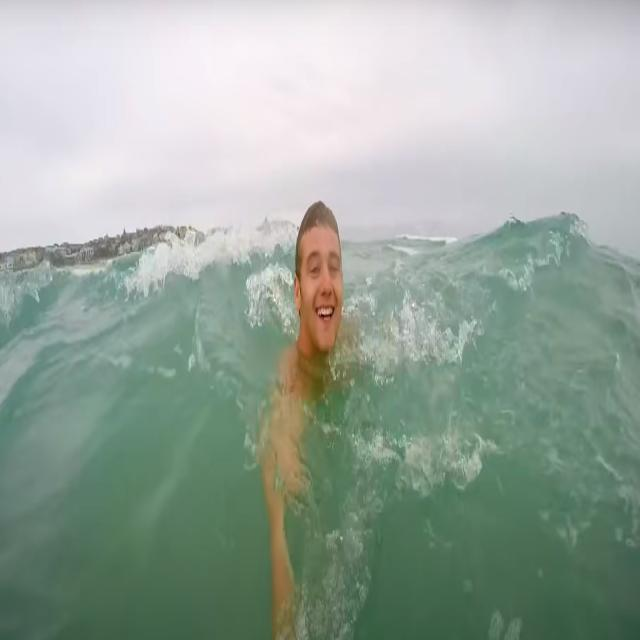Out of Water: (276, 181, 369, 394)
